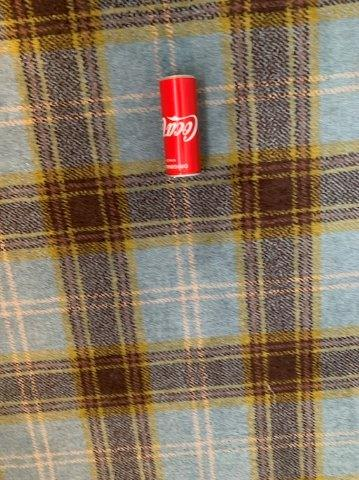kaleng: (160, 75, 202, 176)
